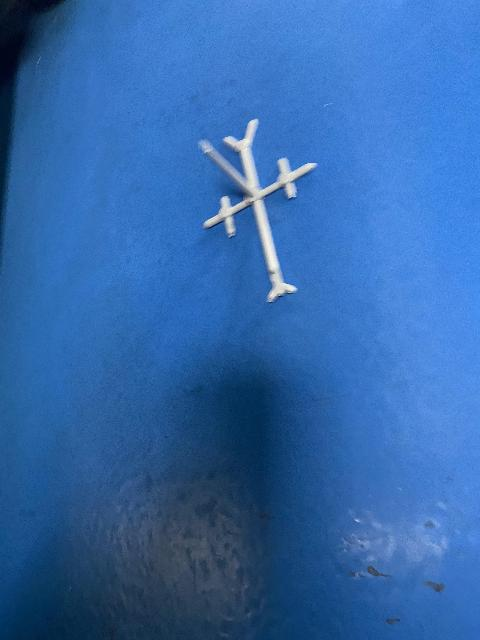Plastik: (181, 119, 330, 316)
